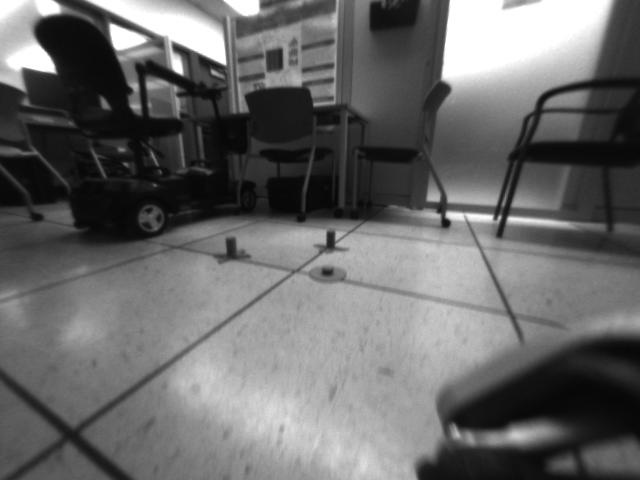X: (214, 237, 252, 264), (315, 228, 352, 252)
